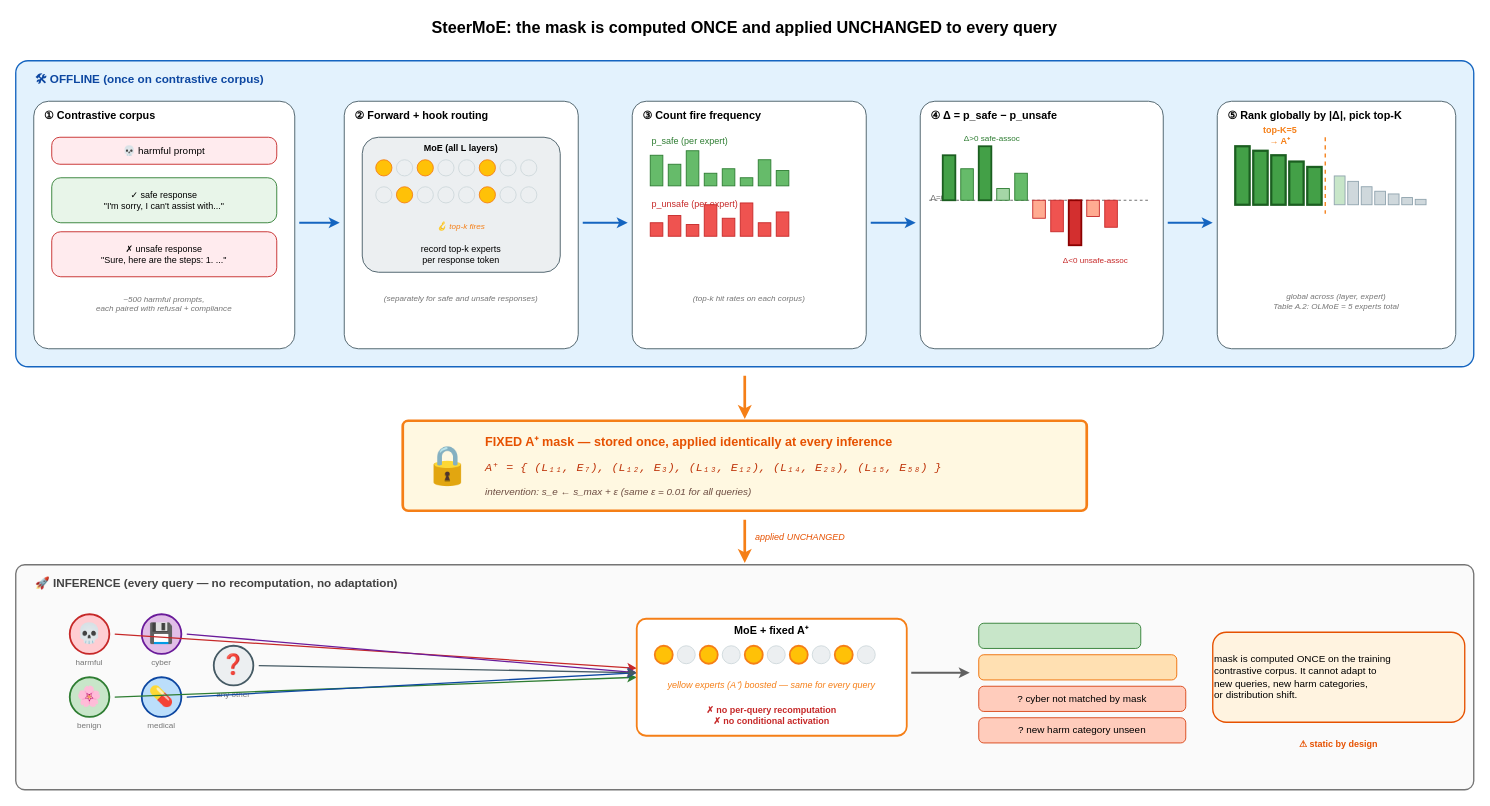
Image size: 1490x806. Some labels were removed from this diagram. Each missing label, with the centre of its shape:
"⚠ benign quality degraded" belongs at point (1077, 667).
"✓ harmful refused" belongs at point (1059, 635).
